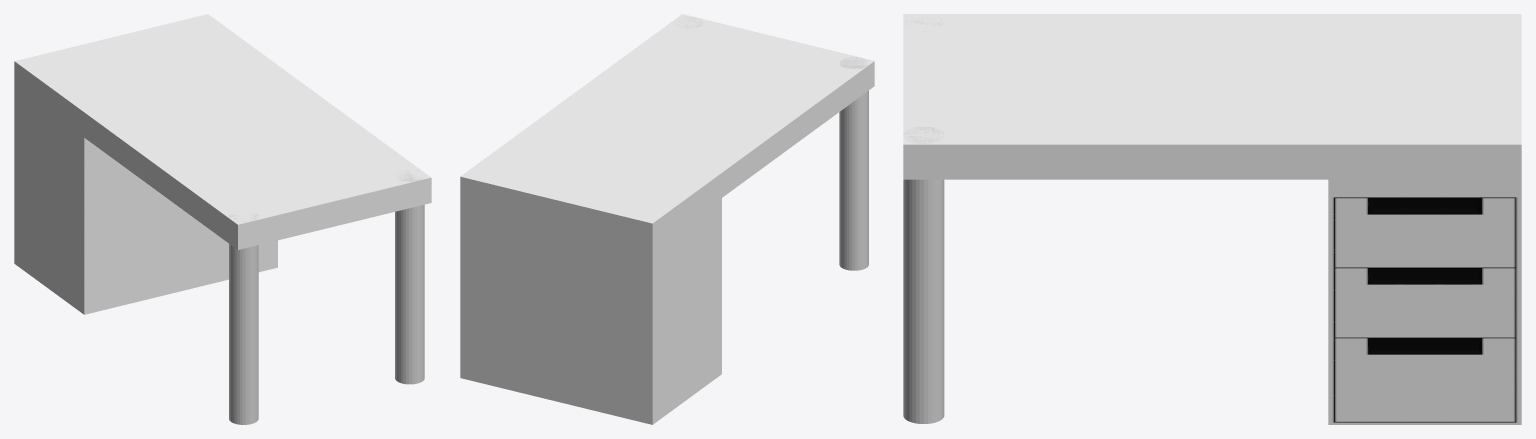
The model's file is Office_Table(1).glb.
The picture shows the model from 3 angles, left to right: view 1: azimuth 30°, elevation 25°; view 2: azimuth 150°, elevation 25°; view 3: azimuth 270°, elevation 25°; orthographic projection. The views are drawn at different scales.
Visible parts, largest first — view 1: Cube, Cylinder, Cylinder.001; view 2: Cube, Cylinder.001; view 3: Cube, Cylinder.
Part boxes in pixels (x1,y1,x2,y2): Cube: (14, 14, 431, 314); Cylinder: (395, 169, 424, 384); Cylinder.001: (229, 212, 258, 424); Cube: (460, 14, 874, 424); Cylinder.001: (839, 57, 868, 270); Cube: (903, 14, 1521, 424); Cylinder: (903, 126, 944, 423).
Size of the model in its own units: 1.5 by 1.5 by 3.
1 material, 1 textured.
